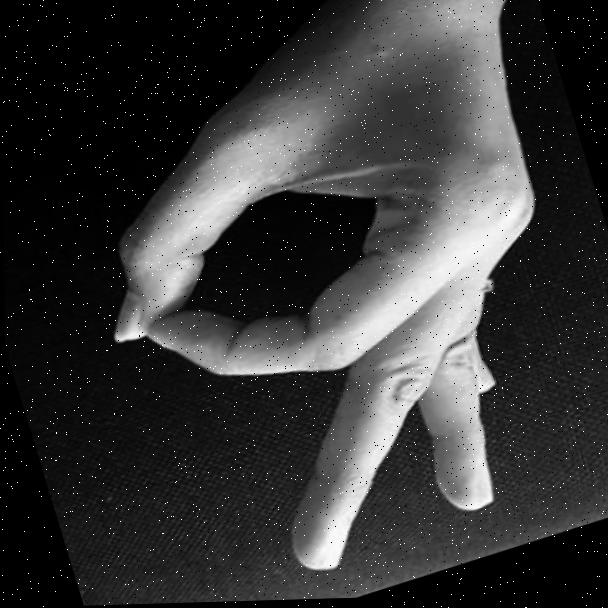five: (32, 0, 608, 607)
